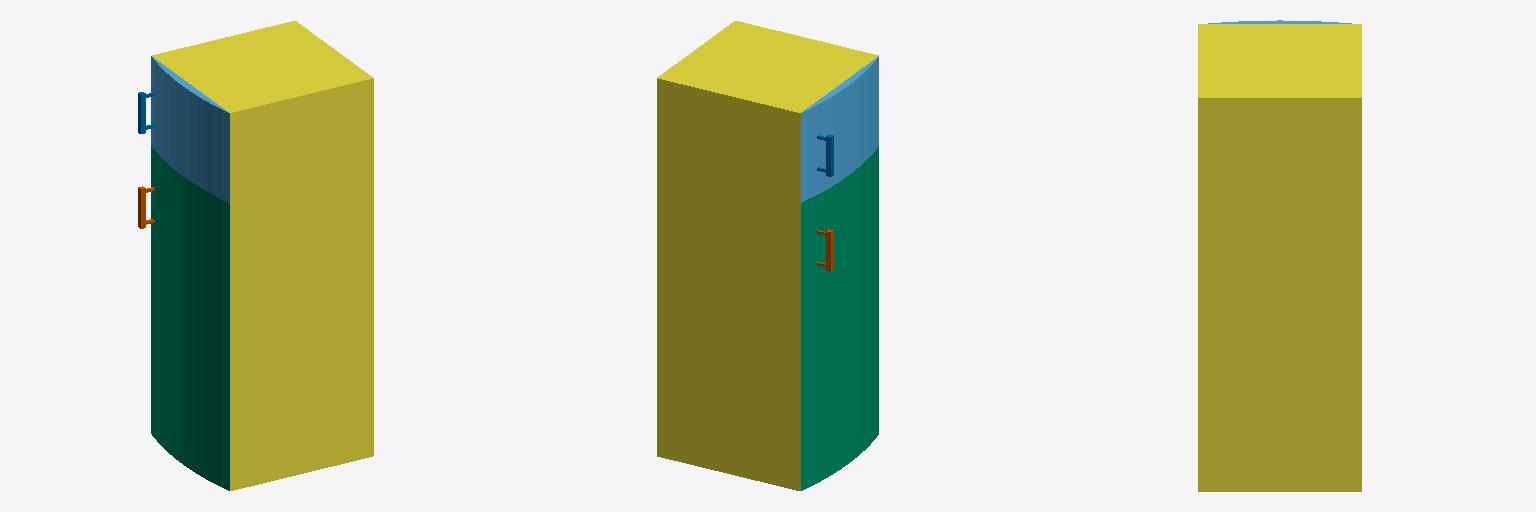
robot.urdf — partnet_f7e0a103c97469d5a168e247bb97e471:
<?xml version='1.0' encoding='us-ascii'?>
<robot name="partnet_f7e0a103c97469d5a168e247bb97e471">
	<link name="base" />
	<link name="link_0">
		<visual name="door_frame-21">
			<origin xyz="-0.3222042194546104 -0.8713290095329285 -0.3357881237454305" />
			<geometry>
				<mesh filename="textured_objs/original-15.obj" />
			</geometry>
		</visual>
		<collision>
			<origin xyz="-0.3222042194546104 -0.8713290095329285 -0.3357881237454305" />
			<geometry>
				<mesh filename="textured_objs/original-15.obj" />
			</geometry>
		</collision>
	</link>
	<joint name="joint_0" type="revolute">
		<origin xyz="0.3222042194546104 0.8713290095329285 0.3357881237454305" />
		<axis xyz="0 1 0" />
		<child link="link_0" />
		<parent link="link_2" />
		<limit lower="0.0" upper="1.5707963267948966" />
	</joint>
	<link name="link_1">
		<visual name="door_frame-19">
			<origin xyz="-0.3222042194546104 -0.8713290095329285 -0.3357881237454305" />
			<geometry>
				<mesh filename="textured_objs/original-3.obj" />
			</geometry>
		</visual>
		<collision>
			<origin xyz="-0.3222042194546104 -0.8713290095329285 -0.3357881237454305" />
			<geometry>
				<mesh filename="textured_objs/original-3.obj" />
			</geometry>
		</collision>
	</link>
	<joint name="joint_1" type="revolute">
		<origin xyz="0.3222042194546104 0.8713290095329285 0.3357881237454305" />
		<axis xyz="0 1 0" />
		<child link="link_1" />
		<parent link="link_2" />
		<limit lower="0.0" upper="1.5707963267948966" />
	</joint>
	<link name="link_2">
		<visual name="frame-15">
			<origin xyz="0 0 0" />
			<geometry>
				<mesh filename="textured_objs/original-4.obj" />
			</geometry>
		</visual>
		<visual name="frame-15">
			<origin xyz="0 0 0" />
			<geometry>
				<mesh filename="textured_objs/original-2.obj" />
			</geometry>
		</visual>
		<visual name="frame-15">
			<origin xyz="0 0 0" />
			<geometry>
				<mesh filename="textured_objs/original-9.obj" />
			</geometry>
		</visual>
		<visual name="frame-15">
			<origin xyz="0 0 0" />
			<geometry>
				<mesh filename="textured_objs/original-1.obj" />
			</geometry>
		</visual>
		<visual name="frame-15">
			<origin xyz="0 0 0" />
			<geometry>
				<mesh filename="textured_objs/original-10.obj" />
			</geometry>
		</visual>
		<visual name="shelf-23">
			<origin xyz="0 0 0" />
			<geometry>
				<mesh filename="textured_objs/original-16.obj" />
			</geometry>
		</visual>
		<collision>
			<origin xyz="0 0 0" />
			<geometry>
				<mesh filename="textured_objs/original-4.obj" />
			</geometry>
		</collision>
		<collision>
			<origin xyz="0 0 0" />
			<geometry>
				<mesh filename="textured_objs/original-2.obj" />
			</geometry>
		</collision>
		<collision>
			<origin xyz="0 0 0" />
			<geometry>
				<mesh filename="textured_objs/original-9.obj" />
			</geometry>
		</collision>
		<collision>
			<origin xyz="0 0 0" />
			<geometry>
				<mesh filename="textured_objs/original-1.obj" />
			</geometry>
		</collision>
		<collision>
			<origin xyz="0 0 0" />
			<geometry>
				<mesh filename="textured_objs/original-10.obj" />
			</geometry>
		</collision>
		<collision>
			<origin xyz="0 0 0" />
			<geometry>
				<mesh filename="textured_objs/original-16.obj" />
			</geometry>
		</collision>
	</link>
	<joint name="joint_2" type="fixed">
		<origin rpy="1.570796326794897 0 -1.570796326794897" xyz="0 0 0" />
		<child link="link_2" />
		<parent link="base" />
	</joint>
		<link name="link_3">
			<visual name="handle-1">
				<origin xyz="-0.3222042194546104 -0.8713290095329285 -0.3357881237454305" />
				<geometry>
					<mesh filename="textured_objs/original-12.obj" />
				</geometry>
		</visual>
		<visual name="handle-1">
			<origin xyz="-0.3222042194546104 -0.8713290095329285 -0.3357881237454305" />
			<geometry>
				<mesh filename="textured_objs/modified-0-original-14.obj" />
			</geometry>
		</visual>
		<visual name="handle-1">
			<origin xyz="-0.3222042194546104 -0.8713290095329285 -0.3357881237454305" />
			<geometry>
				<mesh filename="textured_objs/modified-0-original-13.obj" />
			</geometry>
		</visual>
		</link>
		<joint name="joint_3" type="fixed">
			<origin rpy="0 0 0" xyz="0 0 0" />
			<child link="link_3" />
			<parent link="link_0" />
		</joint>
		<link name="link_4">
			<visual name="handle-1">
				<origin xyz="-0.3222042194546104 -0.8713290095329285 -0.3357881237454305" />
				<geometry>
					<mesh filename="textured_objs/original-6.obj" />
				</geometry>
		</visual>
		<visual name="handle-1">
			<origin xyz="-0.3222042194546104 -0.8713290095329285 -0.3357881237454305" />
			<geometry>
				<mesh filename="textured_objs/modified-0-original-8.obj" />
			</geometry>
		</visual>
		<visual name="handle-1">
			<origin xyz="-0.3222042194546104 -0.8713290095329285 -0.3357881237454305" />
			<geometry>
				<mesh filename="textured_objs/modified-0-original-7.obj" />
			</geometry>
		</visual>
		</link>
		<joint name="joint_4" type="fixed">
			<origin rpy="0 0 0" xyz="0 0 0" />
			<child link="link_4" />
			<parent link="link_1" />
		</joint>
</robot>

--- Facts derived from the render (not from the file) ---
3 views of the same robot in one strip: view 1: azimuth 30°, elevation 25°; view 2: azimuth 150°, elevation 25°; view 3: azimuth 270°, elevation 25° (orthographic).
Model partnet_f7e0a103c97469d5a168e247bb97e471 with 6 links and 5 joints (2 revolute, 3 fixed), rooted at base, posed all joints at 0.
Links seen in each view (by area): view 1: link_2, link_1, link_0; view 2: link_2, link_1, link_0; view 3: link_2.
Link boxes in pixels (x1,y1,x2,y2): link_2: (152,21,373,490); link_1: (151,146,229,490); link_0: (151,56,229,202); link_2: (657,21,878,490); link_1: (801,147,878,490); link_0: (801,56,878,202); link_2: (1198,24,1361,491).
Bounding box of the posed robot: 0.8086 × 0.665 × 1.76 m (x, y, z).
14 mesh visuals loaded from 14 distinct referenced files (14 OBJ).
